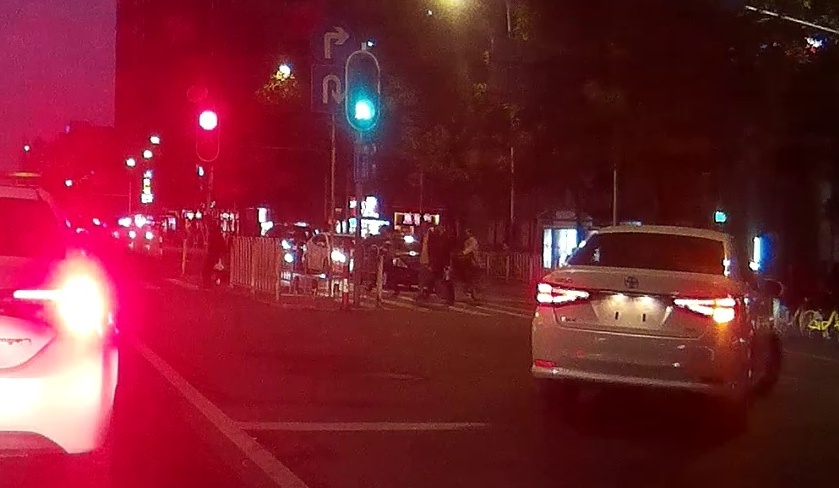L_light: (535, 280, 590, 304)
R_light: (673, 297, 735, 324)
T_light: (641, 232, 672, 238)
night-right: (529, 225, 741, 429)
